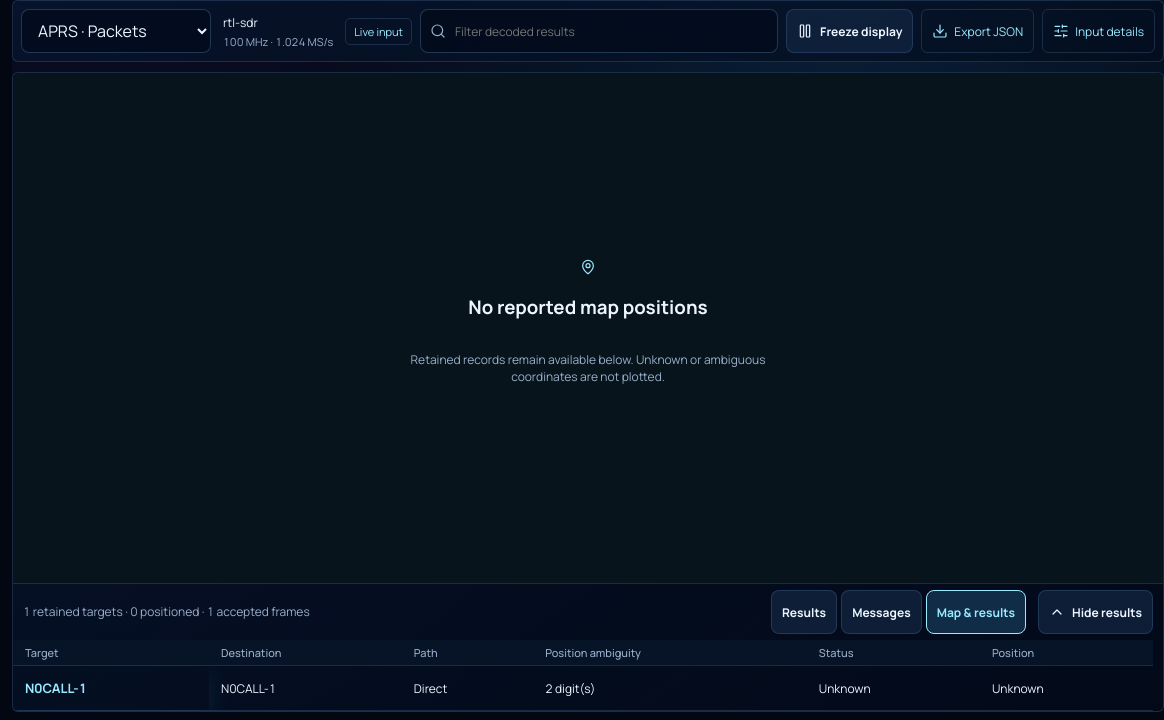
Test: keeps ambiguous APRS positions in the tray and allows returning from an empty message view
The image size is (1164, 720).
Check: the table with class "decoder-target-table" shows "2 digit(s)", box [545,680,595,696]
Click the button "Messages": click(881, 612) [841,590,922,634]
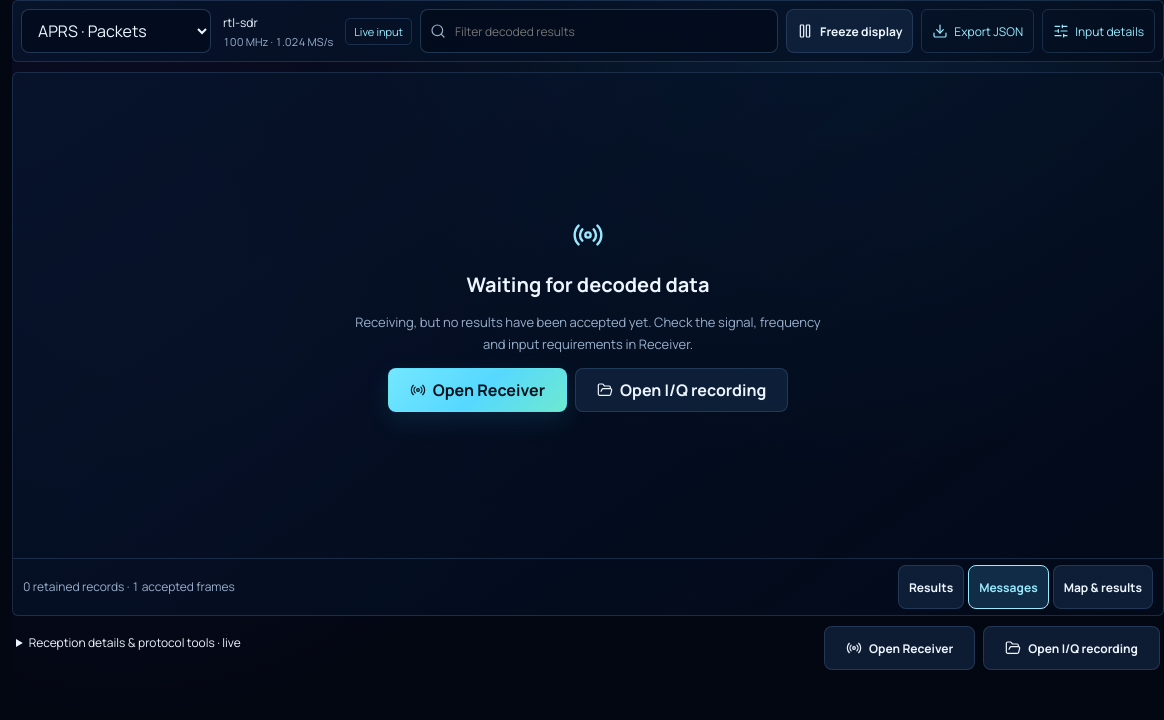
Check: the button with class "decoder-record" is gone
Click the button "Map & results": click(1103, 587) [1053,565,1153,609]
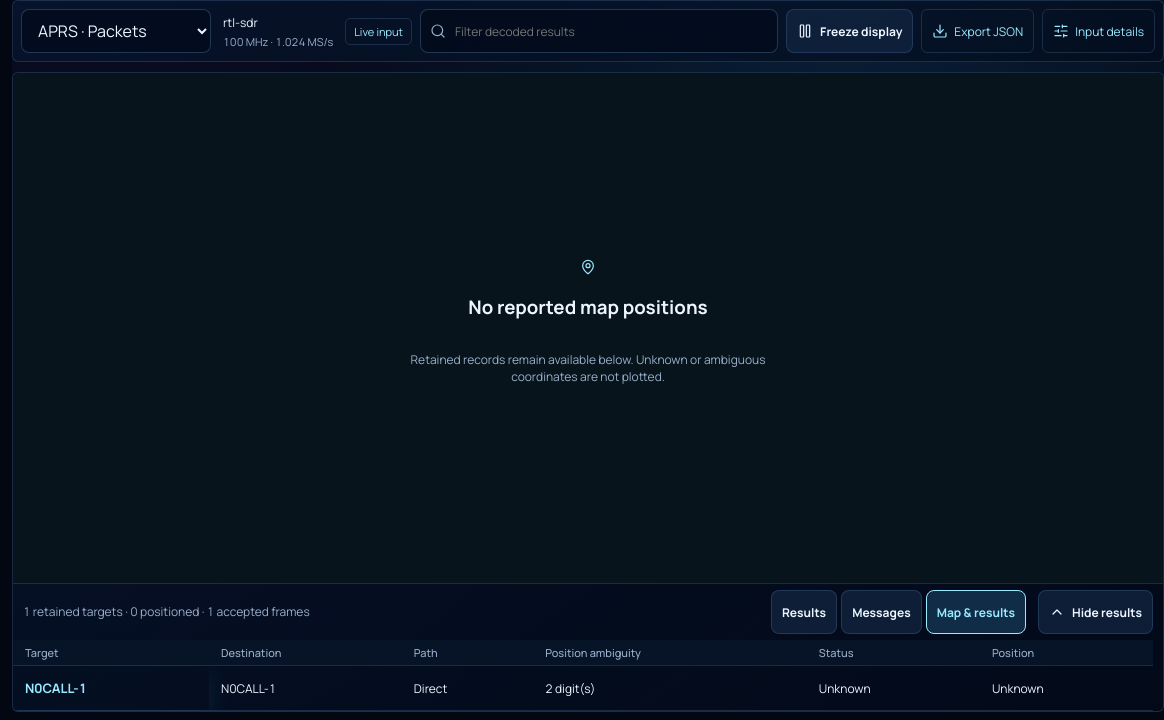
Check: the button with class "decoder-record" reads "N0CALL-1", box [13,666,209,710]
